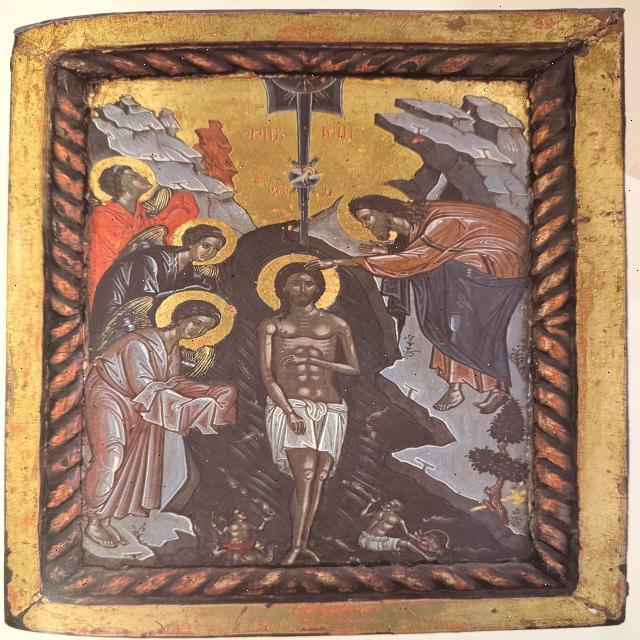angel: (79, 285, 239, 549), (84, 215, 249, 331)
aura: (255, 251, 341, 317), (152, 291, 236, 352), (332, 185, 413, 247), (169, 218, 238, 268), (88, 158, 159, 206)
christ: (245, 251, 378, 563)
saint: (333, 180, 529, 412)
wing: (90, 295, 158, 351), (106, 225, 172, 259), (179, 347, 220, 378), (143, 186, 181, 216), (194, 265, 224, 281)
